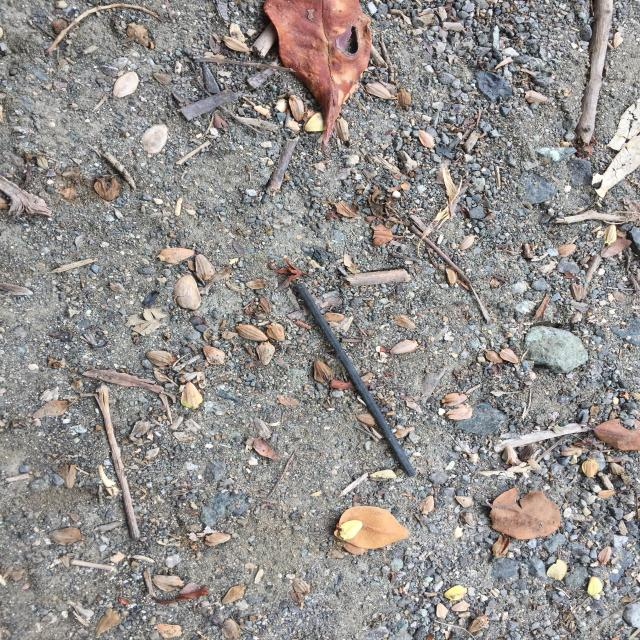litter: (379, 168, 639, 260)
